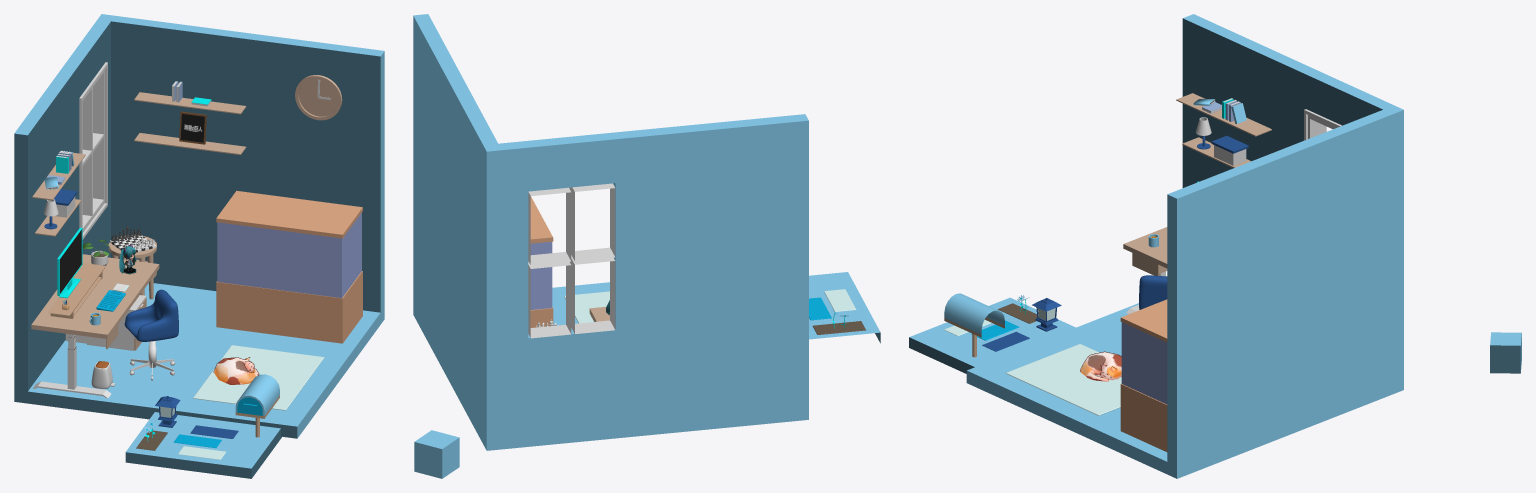
The model's file is Finale Version 16.glb.
3 views of the same model, side by side, from view 1: azimuth 30°, elevation 25°; view 2: azimuth 150°, elevation 25°; view 3: azimuth 270°, elevation 25° (orthographic). The views are drawn at different scales.
Visible parts, largest first — view 1: Body, Aquarium, Desks, Mini Floor, Floor Items, Shelves, table_stuff, Chair, Clock, Mailbox, Computer, Lamp (+4 smaller); view 2: Body, Mini Floor, Aquarium, Cube, Floor Items, Dirt, FloorThird; view 3: Body, Aquarium, Floor Items, Mini Floor, Shelves, Mailbox, Desks, Cube, table_stuff, Chair, Lamp.
Boxes of the visible parts, bbox=[...] form: Body: bbox=[14, 14, 384, 438]; Aquarium: bbox=[216, 190, 362, 343]; Desks: bbox=[31, 235, 159, 398]; Mini Floor: bbox=[125, 412, 281, 478]; Floor Items: bbox=[87, 295, 324, 410]; Shelves: bbox=[32, 81, 246, 236]; table_stuff: bbox=[48, 226, 259, 384]; Chair: bbox=[124, 289, 178, 341]; Clock: bbox=[295, 75, 342, 120]; Mailbox: bbox=[235, 374, 279, 437]; Computer: bbox=[57, 227, 82, 298]; Lamp: bbox=[155, 396, 180, 427]; Body: bbox=[413, 14, 808, 450]; Mini Floor: bbox=[809, 272, 880, 343]; Aquarium: bbox=[530, 196, 553, 327]; Cube: bbox=[414, 430, 459, 478]; Floor Items: bbox=[564, 291, 609, 323]; Dirt: bbox=[812, 321, 865, 334]; FloorThird: bbox=[824, 289, 856, 311]; Body: bbox=[966, 14, 1403, 478]; Aquarium: bbox=[1120, 299, 1167, 451]; Floor Items: bbox=[1006, 344, 1121, 415]; Mini Floor: bbox=[909, 297, 1075, 373]; Shelves: bbox=[1176, 93, 1271, 167]; Mailbox: bbox=[944, 293, 1004, 357]; Desks: bbox=[1123, 227, 1167, 313]; Cube: bbox=[1490, 332, 1521, 373]; table_stuff: bbox=[1080, 234, 1158, 381]; Chair: bbox=[1139, 275, 1167, 309]; Lamp: bbox=[1032, 298, 1061, 331].
Bounding box in the file's own units: 27.58 × 19.65 × 38.64.
50 materials, 3 textured.
